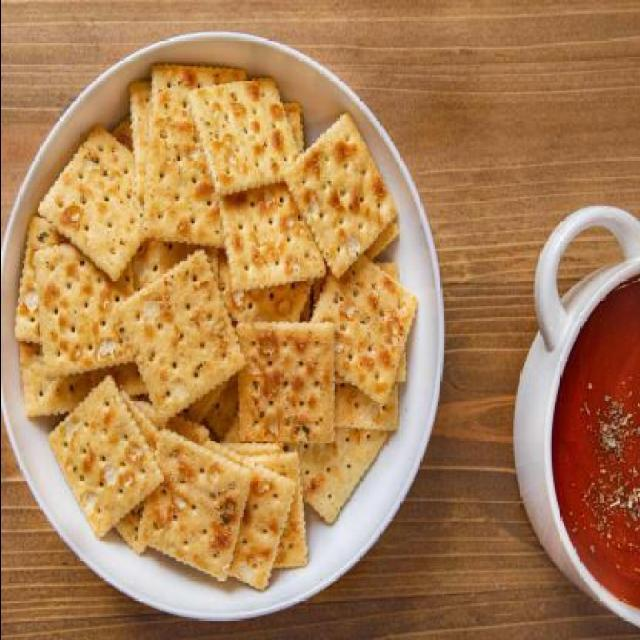Cracker packaged: (119, 250, 247, 428), (284, 100, 396, 278), (48, 372, 168, 536), (135, 428, 251, 586), (230, 310, 339, 456), (316, 248, 418, 400), (203, 73, 295, 198)
